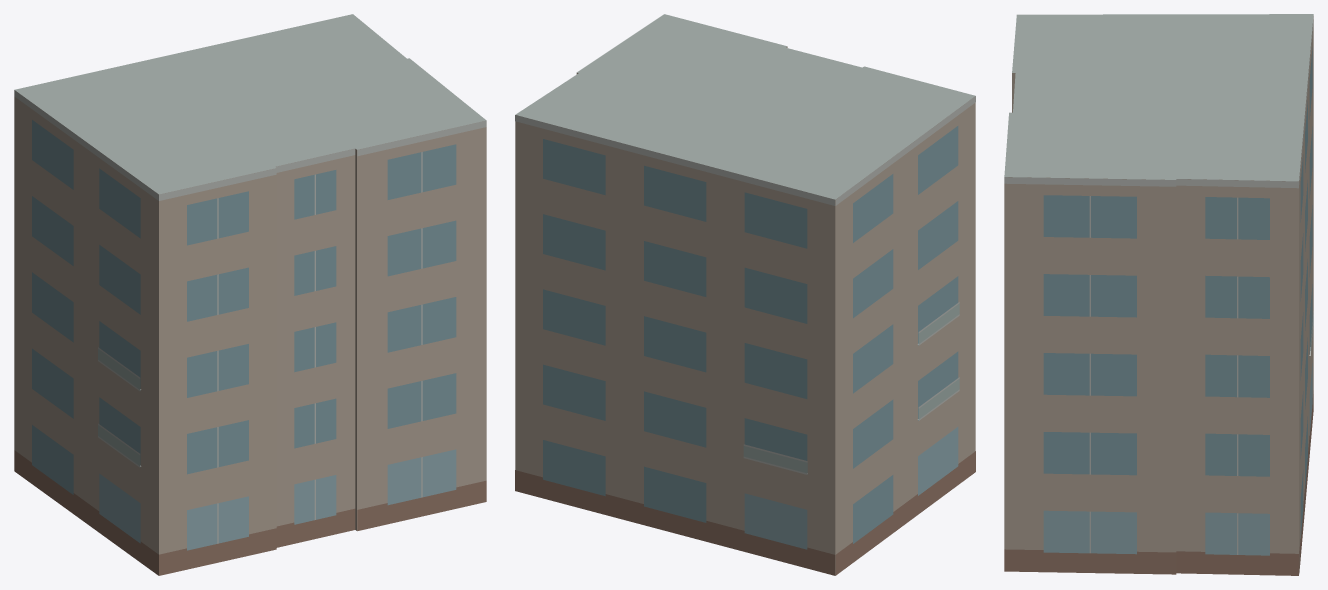
File: survey-upis-32841468.glb
The picture shows the model from 3 angles, left to right: view 1: azimuth 30°, elevation 25°; view 2: azimuth 150°, elevation 25°; view 3: azimuth 270°, elevation 25°; orthographic projection. The views are drawn at different scales.
Parts seen in each view (by area): view 1: survey-upis-32841468.tmp; view 2: survey-upis-32841468.tmp; view 3: survey-upis-32841468.tmp.
Boxes of the visible parts, bbox=[...] form: survey-upis-32841468.tmp: bbox=[14, 14, 486, 575]; survey-upis-32841468.tmp: bbox=[515, 14, 975, 575]; survey-upis-32841468.tmp: bbox=[1004, 14, 1313, 575].
Bounding box in the file's own units: 12.89 × 14.15 × 10.07.
